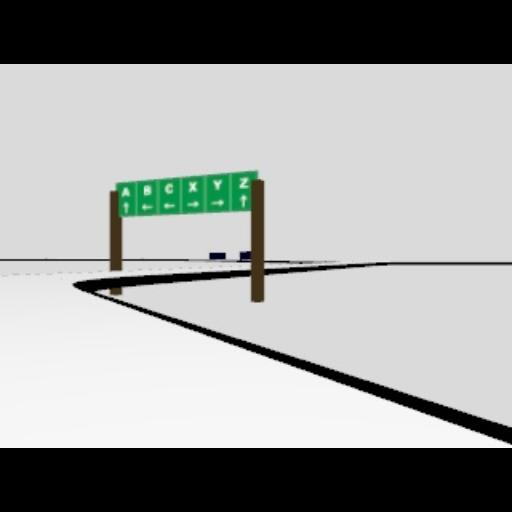A: (120, 186, 130, 196)
B: (142, 184, 152, 196)
C: (163, 182, 173, 194)
Left: (162, 203, 176, 209), (142, 204, 154, 210)
Right: (210, 198, 224, 206), (186, 201, 200, 207)
Straight: (240, 194, 248, 208), (123, 202, 129, 214)
X: (187, 180, 197, 192)
Y: (213, 178, 223, 190)
Z: (238, 176, 248, 188)
